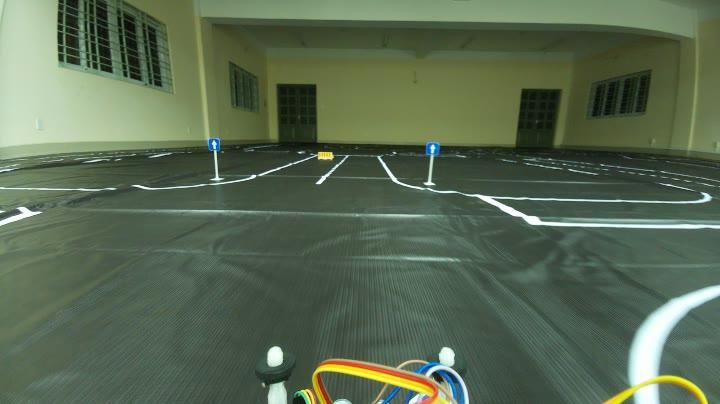onewayroad: (425, 140, 443, 158), (207, 136, 222, 152)
roadblock: (312, 150, 334, 160)
